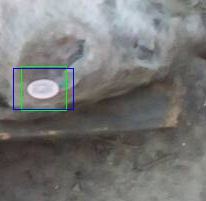text: (21, 66, 66, 110)
